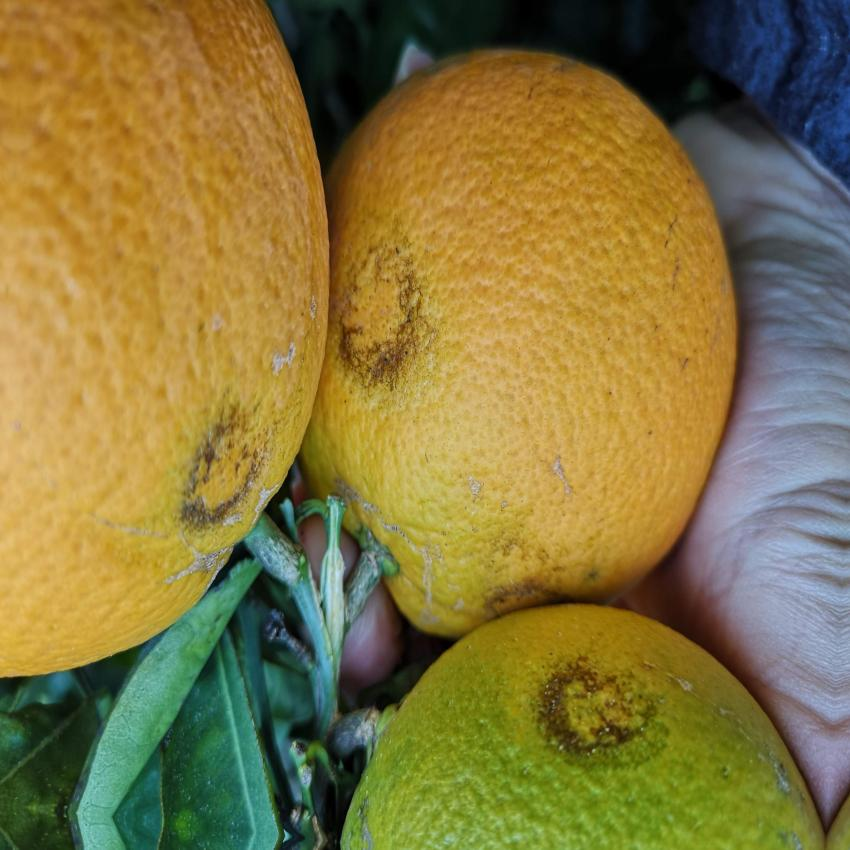Mal estado: (287, 55, 756, 673), (0, 0, 333, 687), (300, 598, 833, 845)
